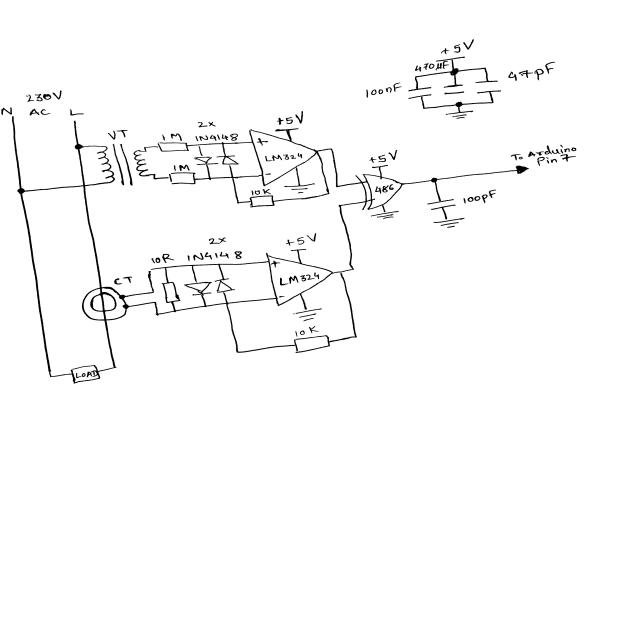capacitor: (474, 78, 502, 94), (427, 198, 458, 211), (406, 86, 434, 100)
crossover: (79, 183, 88, 190)
diode: (184, 281, 214, 296), (214, 277, 236, 294), (192, 155, 221, 166), (216, 154, 239, 166)
ground: (292, 307, 322, 323), (433, 217, 466, 230), (283, 182, 315, 194), (442, 83, 467, 96), (368, 210, 400, 220), (446, 110, 474, 120)
inductor: (80, 286, 129, 321)
junction: (449, 68, 461, 76), (454, 101, 466, 108), (16, 187, 27, 194), (74, 143, 84, 150), (430, 177, 439, 183), (488, 99, 496, 105), (47, 373, 55, 379), (171, 308, 179, 314), (146, 268, 154, 274), (110, 364, 118, 370), (223, 301, 231, 307), (411, 75, 420, 80), (349, 266, 356, 272), (334, 183, 341, 189), (229, 174, 236, 180), (118, 294, 125, 300), (206, 176, 214, 181), (336, 203, 344, 208), (481, 66, 489, 71), (154, 312, 161, 317), (152, 300, 159, 305), (202, 304, 209, 309), (352, 334, 359, 339), (234, 200, 241, 205), (420, 106, 427, 111), (149, 289, 156, 294), (123, 304, 130, 309), (188, 264, 196, 268), (329, 147, 335, 152), (234, 350, 241, 354), (219, 142, 226, 146), (162, 266, 169, 270), (324, 189, 329, 194), (151, 176, 157, 180), (194, 143, 201, 146), (141, 145, 146, 149), (215, 263, 221, 266), (338, 271, 344, 274)
resistor: (67, 363, 104, 386), (292, 334, 332, 355), (160, 281, 181, 304), (156, 141, 192, 153), (167, 172, 197, 185), (248, 194, 275, 208)
source: (435, 55, 465, 63), (274, 127, 300, 132), (371, 165, 393, 169), (290, 249, 307, 252)
terminal: (515, 165, 529, 174), (7, 116, 20, 123), (69, 119, 80, 123)
text: (511, 142, 578, 167), (507, 60, 557, 82), (276, 272, 321, 287), (186, 250, 244, 261), (364, 82, 403, 98), (461, 189, 497, 205), (440, 39, 475, 55), (24, 90, 63, 104), (367, 148, 399, 165), (276, 110, 306, 127), (285, 232, 318, 246), (413, 60, 451, 72), (194, 132, 239, 142), (264, 153, 305, 162), (294, 326, 319, 338), (150, 253, 176, 264), (106, 128, 128, 140), (74, 369, 98, 380), (373, 184, 395, 195), (113, 276, 133, 286), (29, 108, 51, 117), (171, 163, 191, 172), (161, 133, 183, 141), (208, 237, 227, 246), (197, 121, 217, 129), (251, 188, 273, 195), (68, 108, 86, 116), (254, 137, 268, 147), (271, 259, 281, 268), (264, 170, 272, 177), (278, 294, 286, 300)
transformer: (95, 143, 148, 187)
